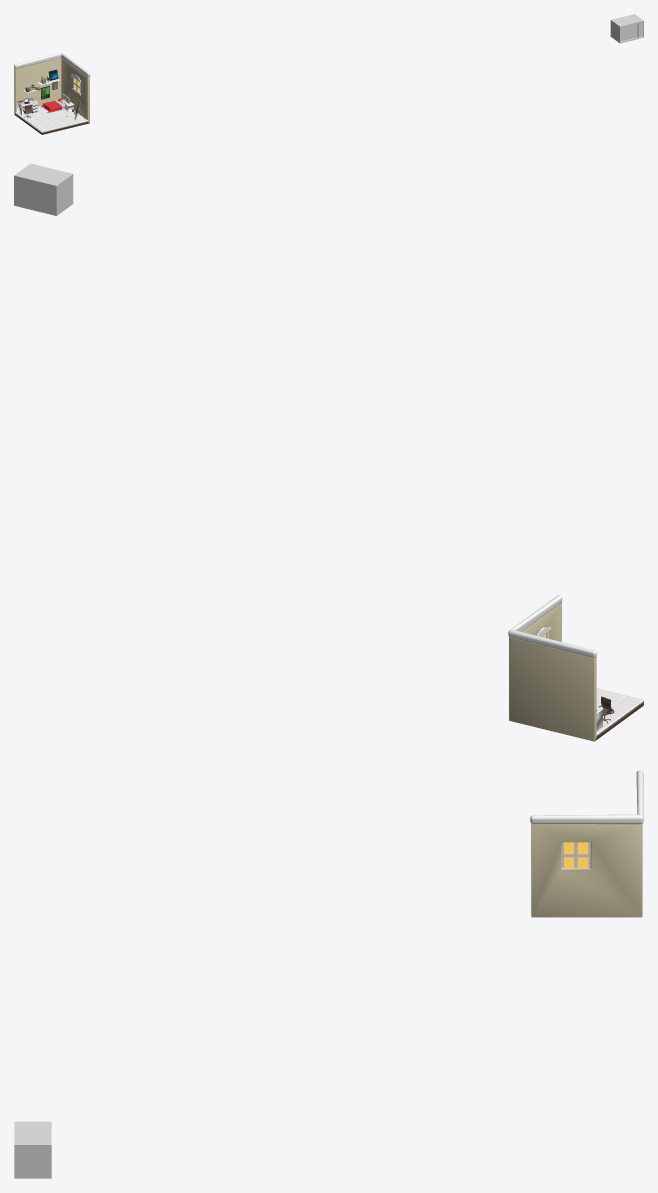
The picture shows the model from 3 angles, top to bottom: view 1: azimuth 30°, elevation 25°; view 2: azimuth 150°, elevation 25°; view 3: azimuth 270°, elevation 25°; orthographic projection. The views are drawn at different scales.
Parts seen in each view (by area): view 1: wall, floor, Cube.021, wall.001, blanket; view 2: wall, Cube.021, wall.001, floor; view 3: wall, Cube.021, wall.001.
Boxes of the visible parts, x1,y1,x2,y2 form: wall: [14, 58, 89, 134]; floor: [15, 106, 87, 132]; Cube.021: [610, 14, 643, 43]; wall.001: [14, 53, 90, 76]; blanket: [41, 100, 63, 112]; wall: [509, 602, 643, 741]; Cube.021: [14, 163, 73, 215]; wall.001: [508, 595, 596, 657]; floor: [596, 688, 643, 736]; wall: [531, 823, 642, 917]; Cube.021: [14, 1121, 51, 1178]; wall.001: [530, 770, 643, 824].
Bounding box in the file's own units: 250 × 47.21 × 144.
Materials: 52 (5 with a texture image).
